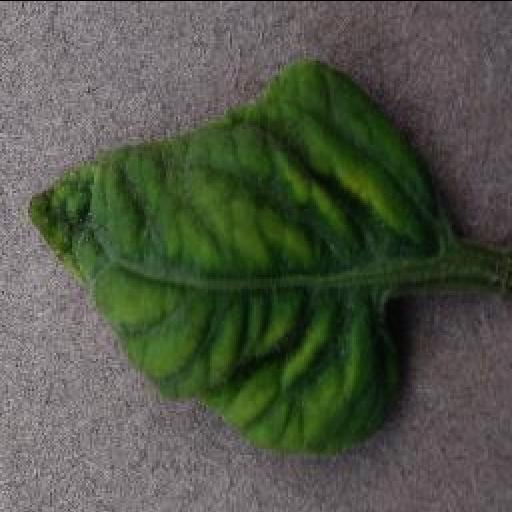disease_tomato: (26, 58, 466, 454)
